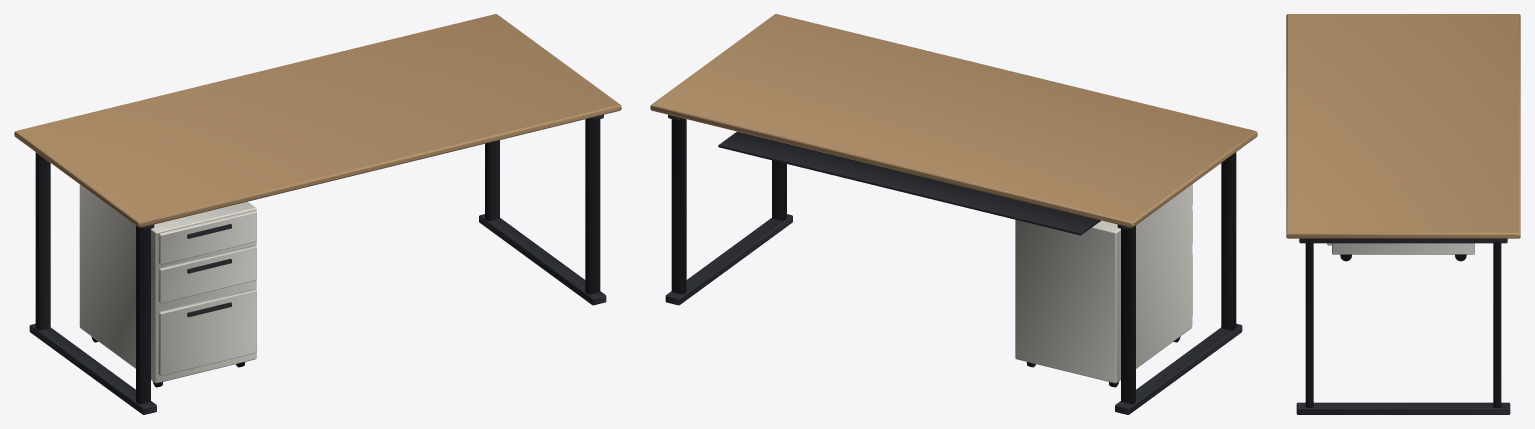
Rendered from desk2.glb.
3 views of the same model, side by side, from view 1: azimuth 30°, elevation 25°; view 2: azimuth 150°, elevation 25°; view 3: azimuth 270°, elevation 25° (orthographic). The views are drawn at different scales.
Parts seen in each view (by area): view 1: Scrivania, Cassettiera, Cassetto; view 2: Scrivania, Cassettiera; view 3: Scrivania, Cassettiera.
Boxes of the visible parts, left/top/right/bottom form: Scrivania: left=14, top=14, right=621, bottom=414; Cassettiera: left=79, top=184, right=256, bottom=387; Cassetto: left=158, top=210, right=256, bottom=264; Scrivania: left=650, top=14, right=1257, bottom=414; Cassettiera: left=1015, top=184, right=1192, bottom=387; Scrivania: left=1286, top=14, right=1520, bottom=414; Cassettiera: left=1327, top=243, right=1474, bottom=261.
Size of the model in its own units: 2 by 0.79 by 0.9.
